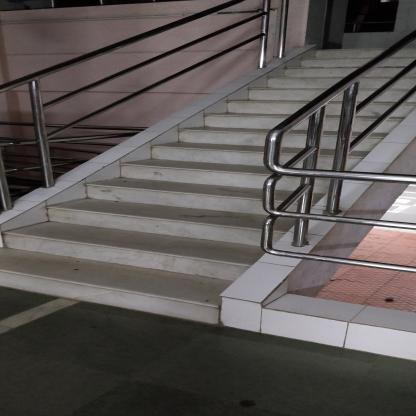stairs: (55, 188, 224, 323)
